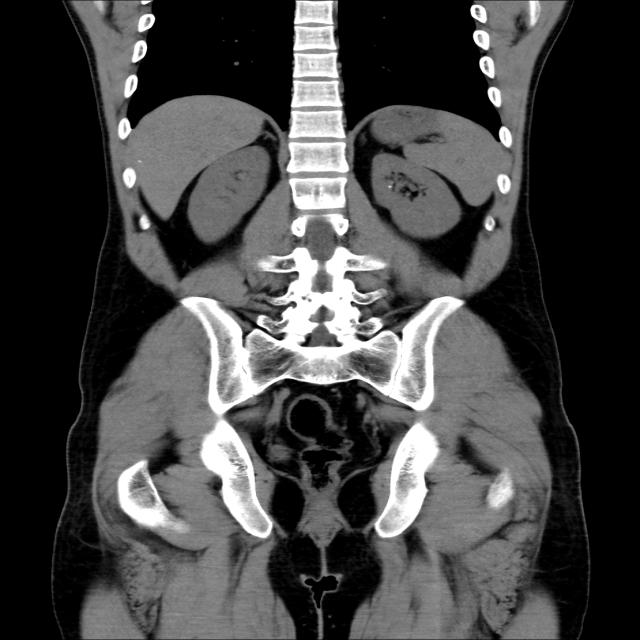kidneystone: (385, 179, 396, 188)
